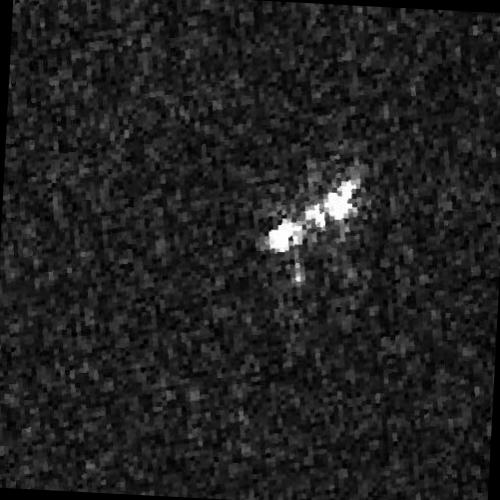ship: (267, 179, 355, 254)
